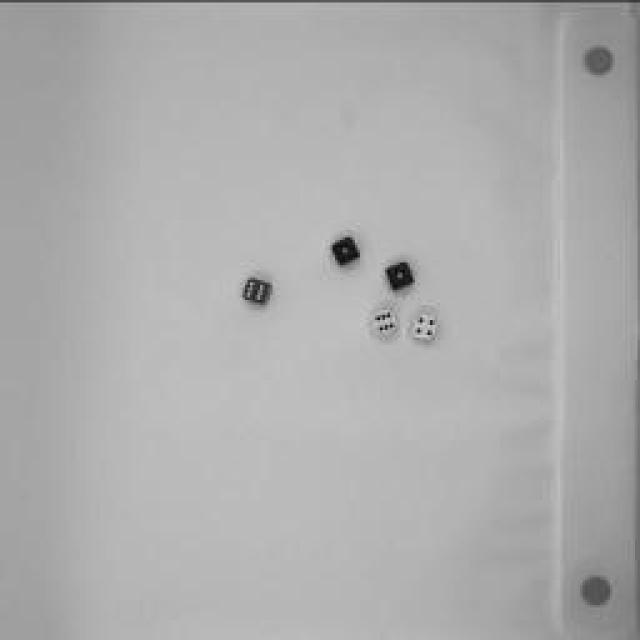dice_1: (328, 232, 364, 268), (382, 260, 418, 295)
dice_4: (409, 310, 441, 348)
dice_6: (243, 274, 275, 306), (370, 305, 400, 337)
